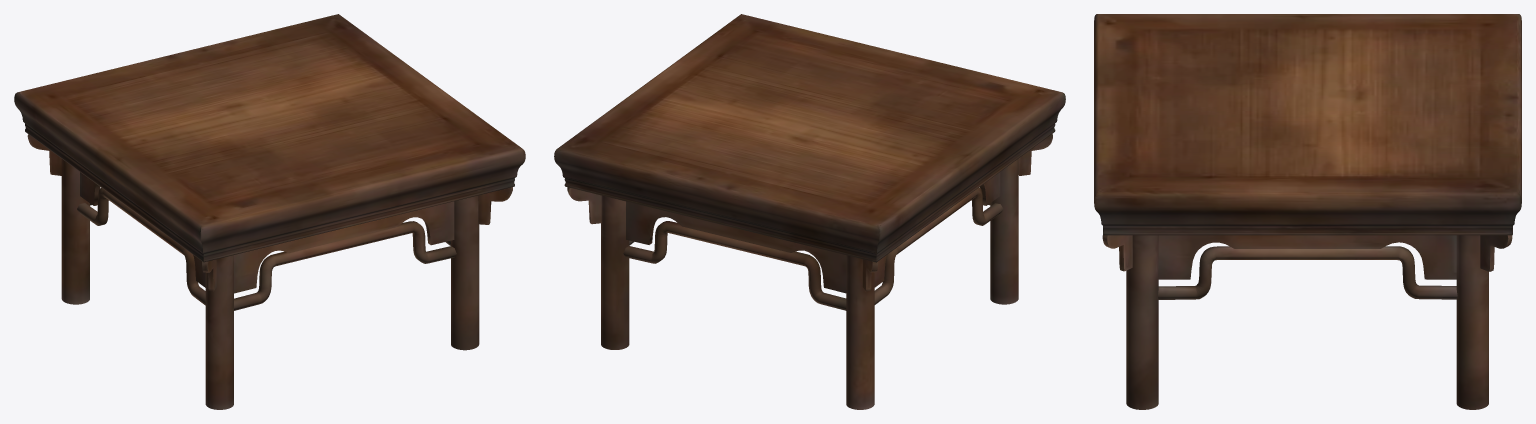
File: ph-chinese_tea_table.glb
3 renders of one model, left to right at view 1: azimuth 30°, elevation 25°; view 2: azimuth 150°, elevation 25°; view 3: azimuth 270°, elevation 25°, orthographic. The views are drawn at different scales.
Parts seen in each view (by area): view 1: chinese_tea_table; view 2: chinese_tea_table; view 3: chinese_tea_table.
Boxes of the visible parts, x1,y1,x2,y2 form: chinese_tea_table: (14, 14, 525, 409); chinese_tea_table: (554, 14, 1065, 409); chinese_tea_table: (1094, 14, 1521, 409).
Size of the model in its own units: 1 by 0.5927 by 0.9933.
Materials: 1 (1 with a texture image).
